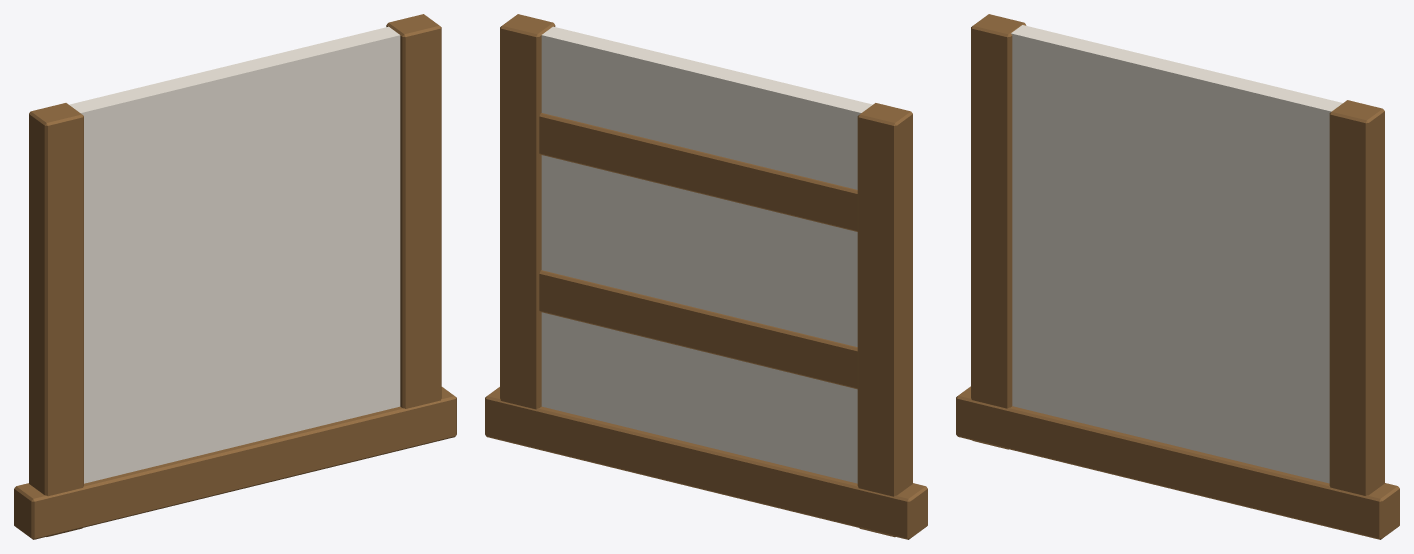
The model's file is Wall2H.fbx.
3 renders of one model, left to right at view 1: azimuth 30°, elevation 25°; view 2: azimuth 150°, elevation 25°; view 3: azimuth 330°, elevation 25°, orthographic.
Parts seen in each view (by area): view 1: Cube.037, Cube.054, Cube.070, Cube.046; view 2: Cube.037, Cube.054, Cube.070, Cube.046, Cube.062, Cube.078; view 3: Cube.037, Cube.046, Cube.070, Cube.054.
Part boxes in pixels (x1,y1,x2,y2): Cube.037: (69, 26, 400, 483); Cube.054: (29, 103, 83, 536); Cube.070: (14, 387, 456, 539); Cube.046: (386, 14, 441, 408); Cube.037: (541, 26, 872, 483); Cube.054: (857, 103, 912, 537); Cube.070: (485, 387, 927, 539); Cube.046: (500, 14, 555, 409); Cube.062: (539, 270, 857, 389); Cube.078: (539, 113, 857, 231); Cube.037: (1011, 25, 1342, 483); Cube.046: (1329, 100, 1384, 495); Cube.070: (956, 386, 1399, 539); Cube.054: (971, 14, 1026, 449).
Size of the model in its own units: 216 by 202 by 17.27.
